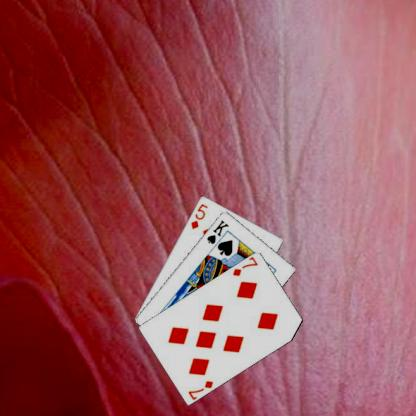5D: (188, 201, 209, 230)
7D: (230, 254, 259, 277), (186, 378, 214, 400)
KS: (204, 217, 230, 245)
